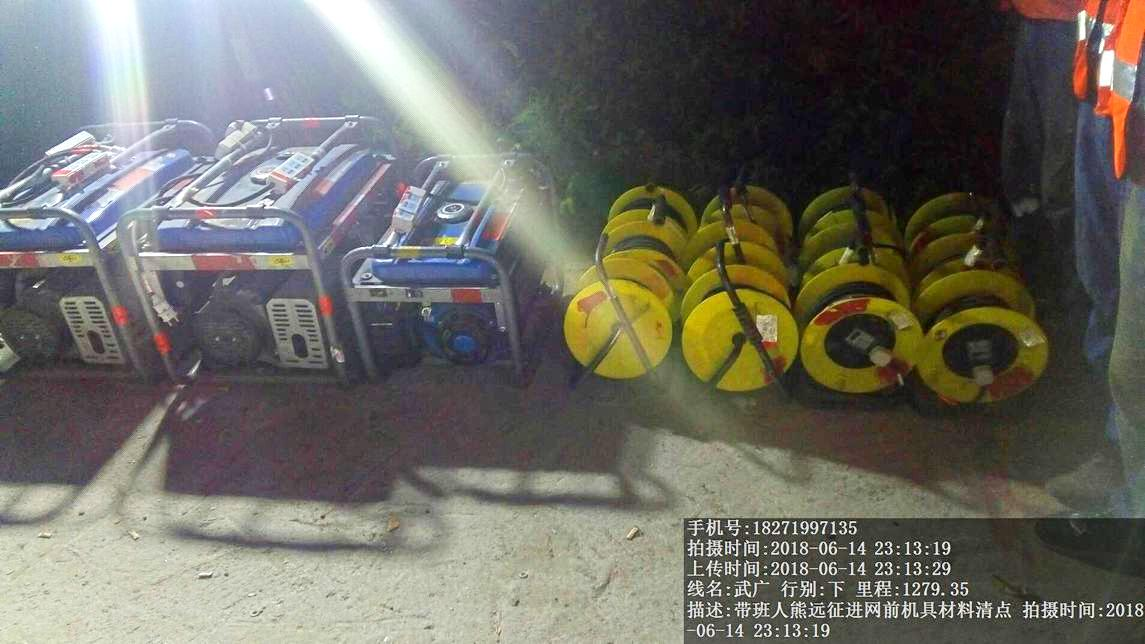DJ: (165, 101, 374, 391), (11, 114, 190, 380), (365, 146, 552, 390)
DX: (923, 270, 1044, 415), (677, 259, 802, 398), (798, 261, 922, 396), (564, 258, 678, 384)
